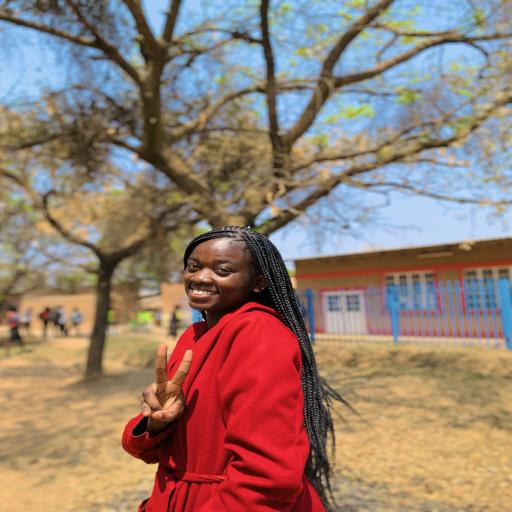LAURENE: (158, 221, 304, 333)
